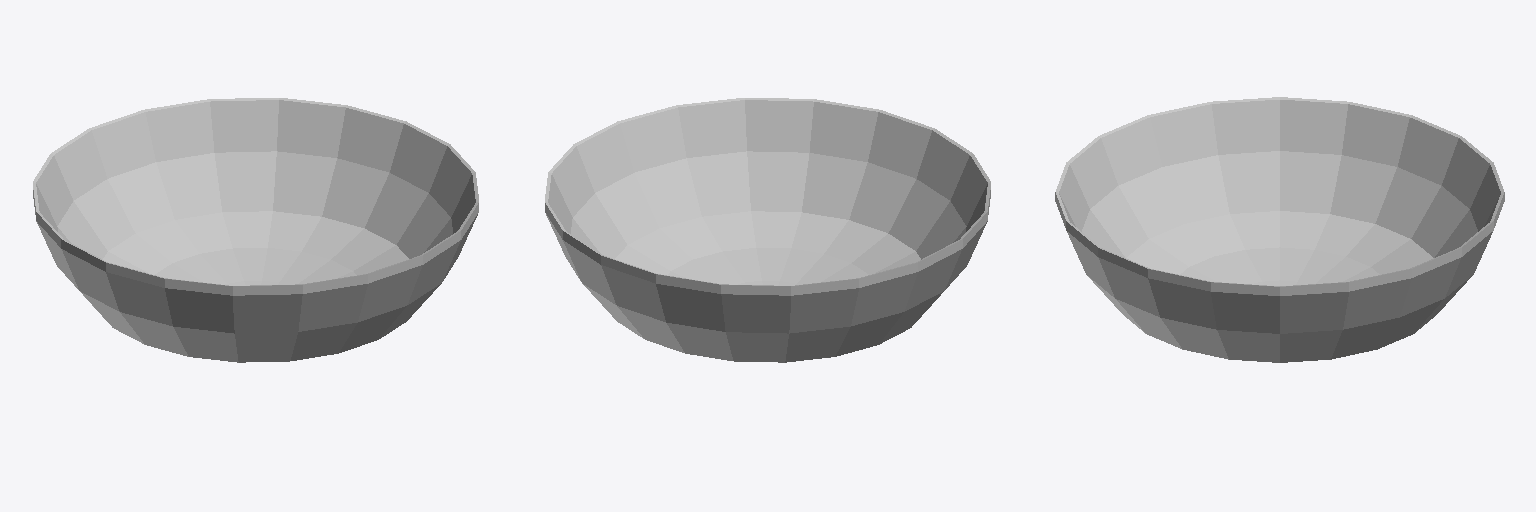
File: Bowl.obj
3 views of the same model, side by side, from view 1: azimuth 30°, elevation 25°; view 2: azimuth 150°, elevation 25°; view 3: azimuth 270°, elevation 25° (orthographic).
Bounding box in the file's own units: 0.2336 × 0.0735 × 0.2336.